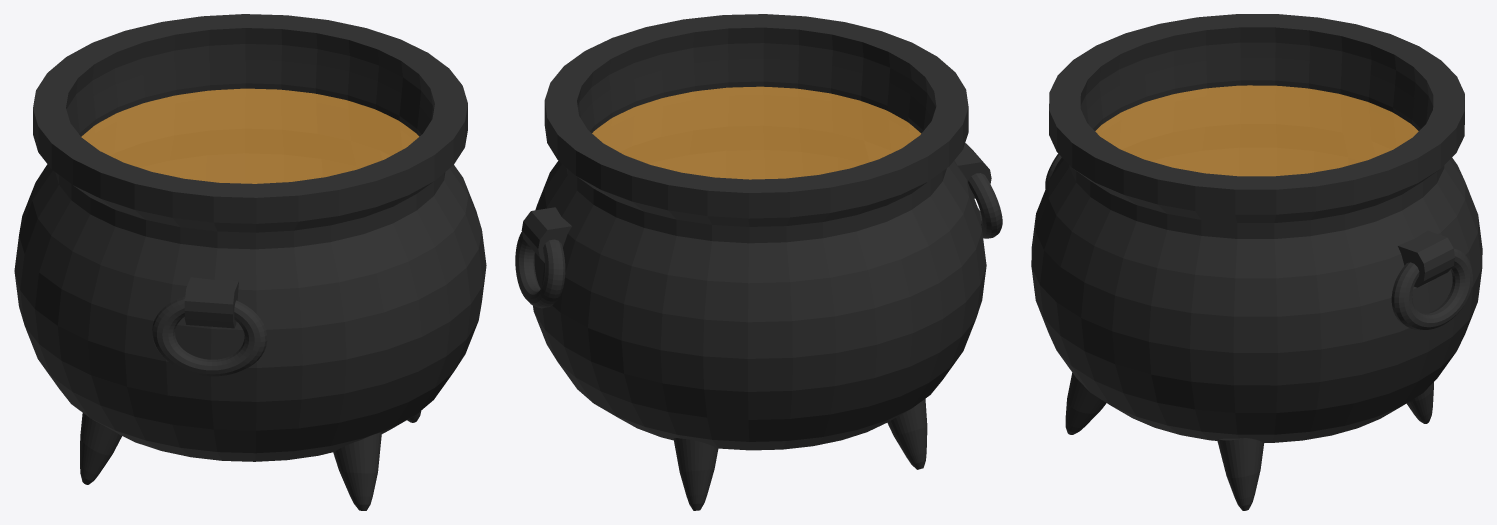
File: cauldron.gltf
3 renders of one model, left to right at view 1: azimuth 30°, elevation 25°; view 2: azimuth 150°, elevation 25°; view 3: azimuth 270°, elevation 25°, orthographic. The views are drawn at different scales.
Visible parts, largest first — view 1: Liquid, Cauldron; view 2: Liquid, Cauldron; view 3: Liquid, Cauldron.
Part boxes in pixels (x1,y1,x2,y2): Liquid: (14,14,486,510); Cauldron: (81,88,418,183); Liquid: (515,14,1002,510); Cauldron: (592,86,920,179); Liquid: (1031,14,1482,510); Cauldron: (1095,85,1418,176).
Bounding box in the file's own units: 3.86 × 3.17 × 3.86.
